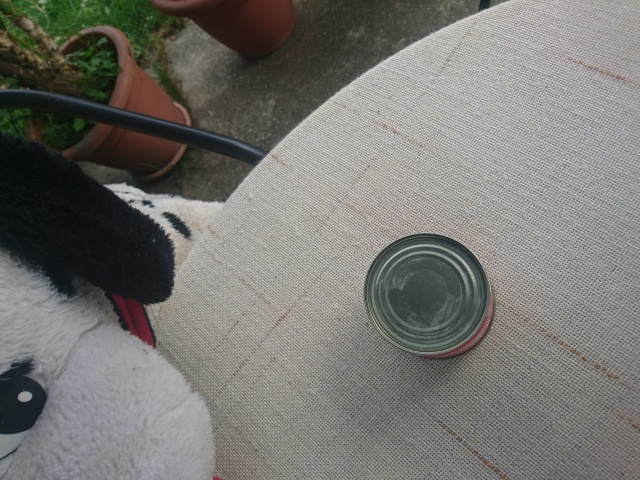Podravka Luncheon Meat 150g: (360, 229, 500, 363)
